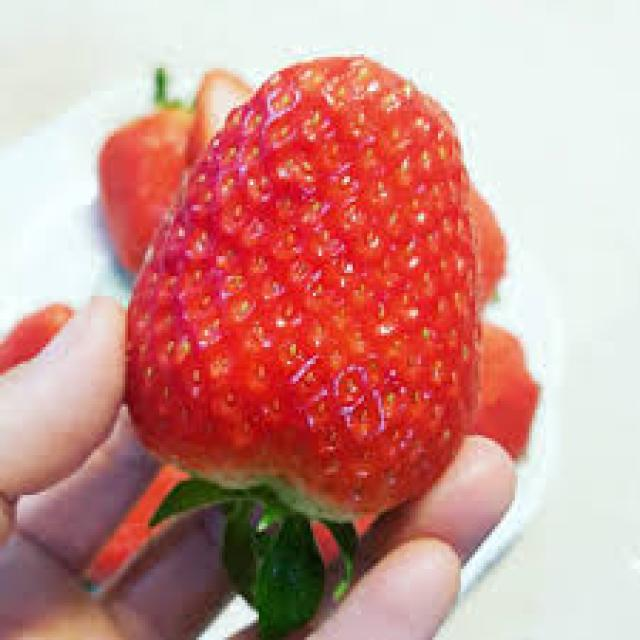mature: (125, 55, 487, 521)
